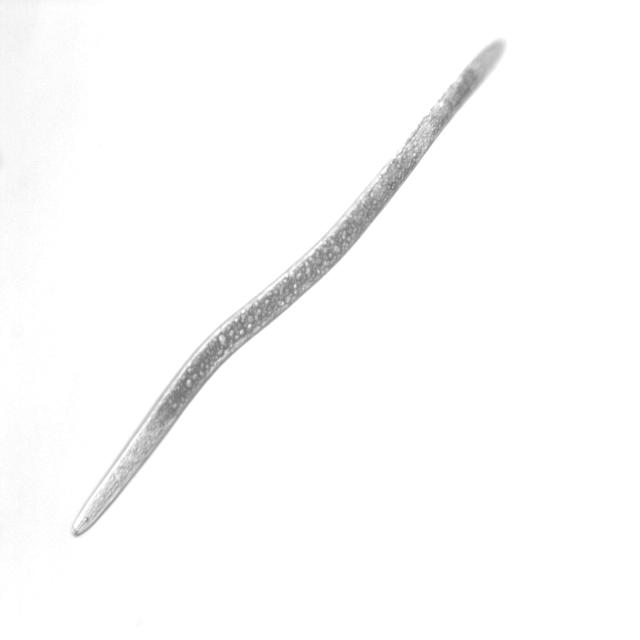Pratylenchus: (67, 40, 507, 538)
